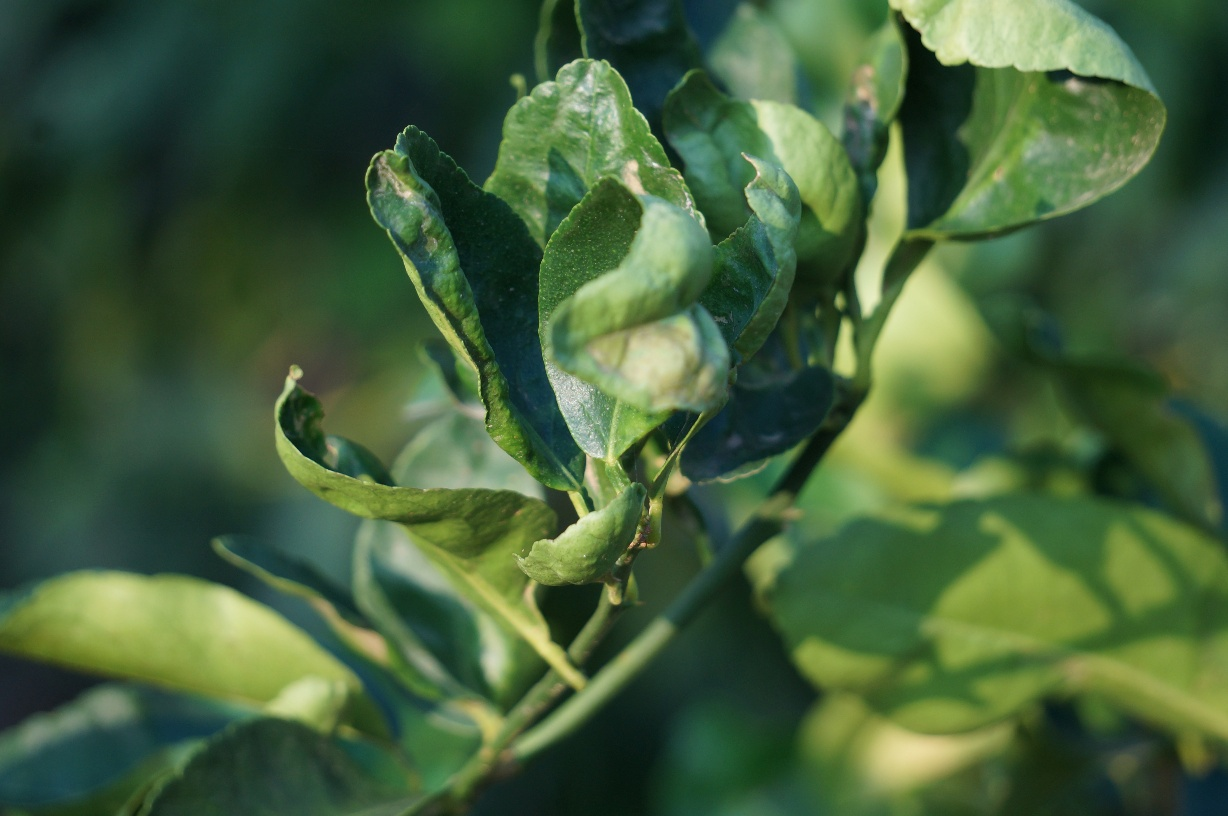curly: (361, 116, 594, 502)
damage: (535, 54, 667, 204), (370, 147, 462, 272)
